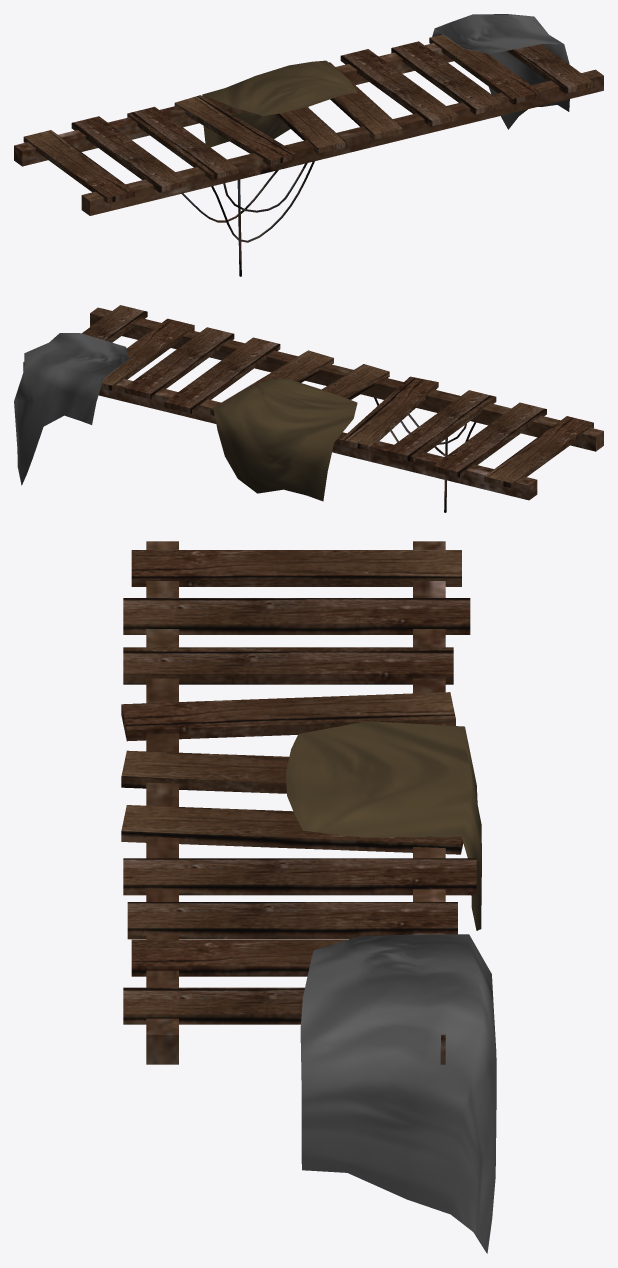
Rendered from StairTop.fbx.
3 views of the same model, one above another, from view 1: azimuth 30°, elevation 25°; view 2: azimuth 150°, elevation 25°; view 3: azimuth 270°, elevation 25° (orthographic). The views are drawn at different scales.
Visible parts, largest first — view 1: StairTop; view 2: StairTop; view 3: StairTop.
Boxes of the visible parts, x1,y1,x2,y2 form: StairTop: (14,14,603,276); StairTop: (14,305,603,512); StairTop: (121,541,496,1253).
Bounding box in the file's own units: 632 × 149 × 200.
